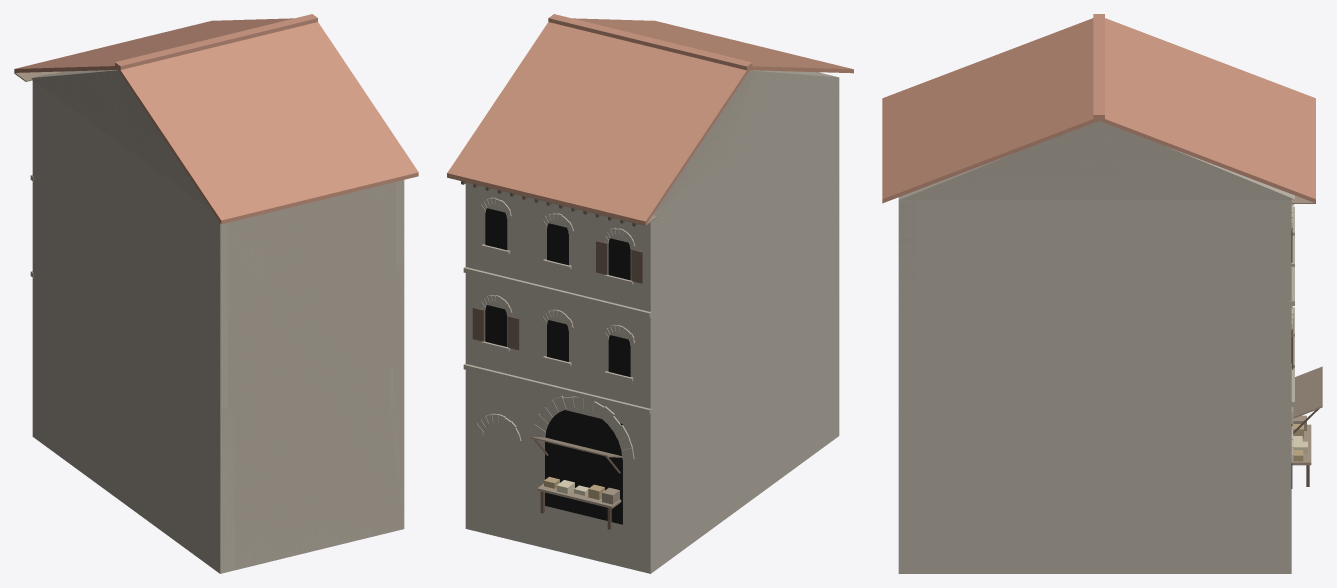
File: casa-68-2-pietra.glb
3 renders of one model, left to right at view 1: azimuth 30°, elevation 25°; view 2: azimuth 150°, elevation 25°; view 3: azimuth 270°, elevation 25°, orthographic. The views are drawn at different scales.
Parts seen in each view (by area): view 1: vicino, lontano; view 2: vicino, lontano, aperta; view 3: vicino, lontano, aperta.
Boxes of the visible parts, x1,y1,x2,y2 form: vicino: (14,14,418,573); lontano: (14,66,418,571); vicino: (447,14,853,573); lontano: (448,67,852,573); aperta: (530,436,622,529); vicino: (882,14,1315,573); lontano: (883,119,1315,573); aperta: (1292,366,1322,486).
Bounding box in the file's own units: 7.3 × 15.58 × 13.45.
